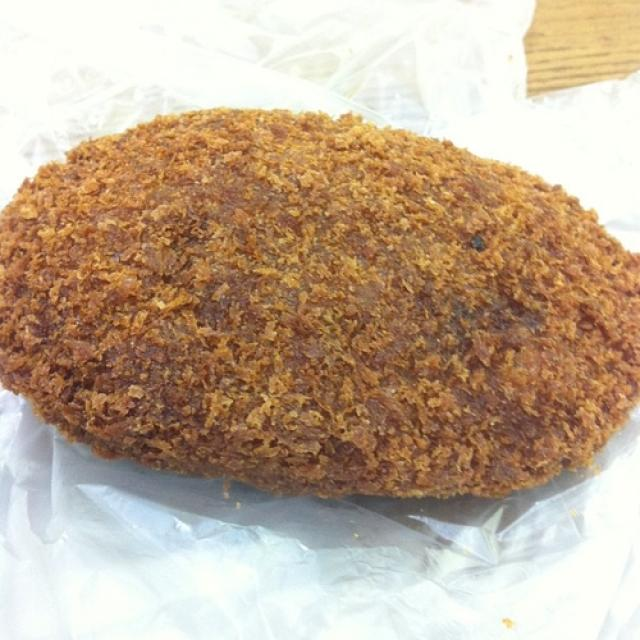炸货点心: (5, 96, 638, 557)
